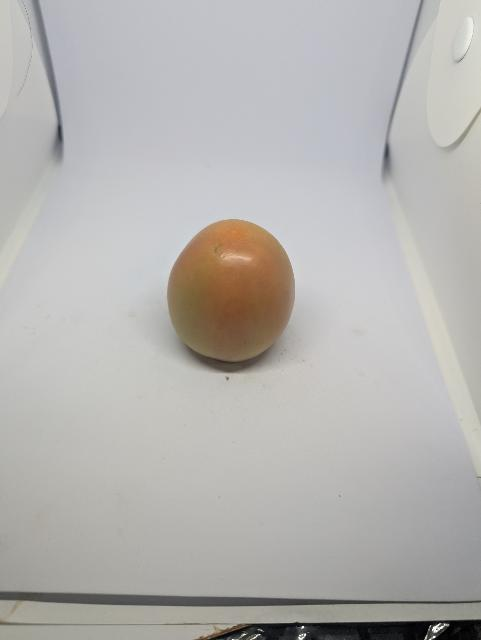turning: (159, 212, 300, 368)
